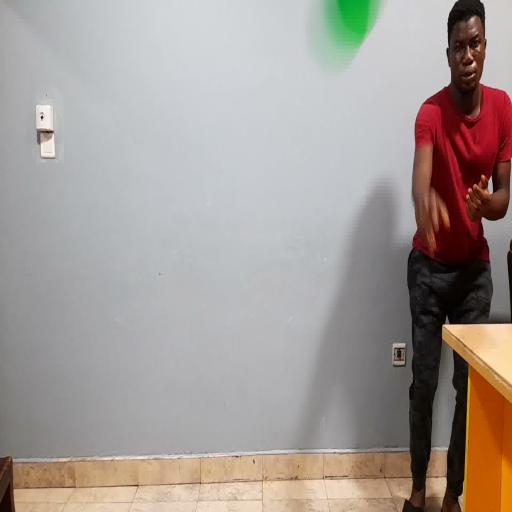plastic-ball: (305, 0, 385, 83)
